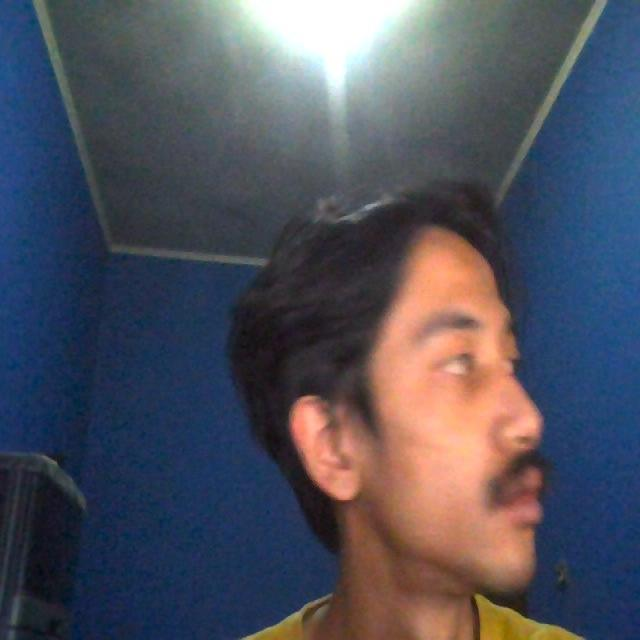melihat kekiri: (213, 175, 566, 617)
